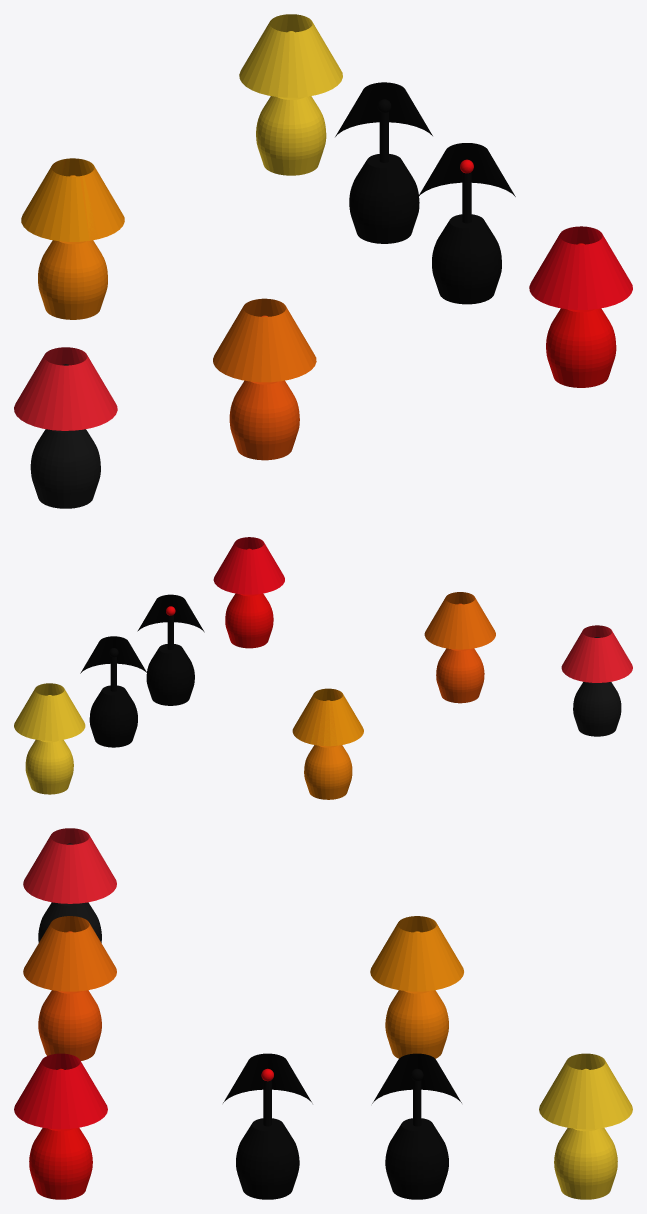
The model's file is lamps.glb.
The picture shows the model from 3 angles, top to bottom: view 1: azimuth 30°, elevation 25°; view 2: azimuth 150°, elevation 25°; view 3: azimuth 270°, elevation 25°; orthographic projection. The views are drawn at different scales.
Parts seen in each view (by area): view 1: Sphere.005, Sphere.013, Sphere.015, Sphere.007, Cylinder.031, Sphere.003, Cylinder.005; view 2: Sphere.015, Sphere.005, Cylinder.031, Sphere.007, Sphere.013, Cylinder.005, Sphere.003; view 3: Sphere.005, Sphere.007, Sphere.013, Cylinder.031, Sphere.003, Cylinder.005, Sphere.015.
Part boxes in pixels (x1,y1,x2,y2): Sphere.005: (239, 14, 342, 175); Sphere.013: (213, 298, 316, 460); Sphere.015: (14, 347, 117, 508); Sphere.007: (529, 226, 632, 387); Cylinder.031: (21, 158, 124, 319); Sphere.003: (335, 82, 432, 243); Cylinder.005: (417, 143, 515, 304); Sphere.015: (561, 625, 632, 736); Sphere.005: (14, 683, 85, 794); Cylinder.031: (292, 688, 363, 799); Sphere.007: (213, 537, 284, 648); Sphere.013: (424, 592, 495, 703); Cylinder.005: (137, 594, 204, 705); Sphere.003: (80, 636, 147, 747); Sphere.005: (539, 1053, 632, 1199); Sphere.007: (14, 1053, 107, 1199); Sphere.013: (23, 916, 116, 1060); Cylinder.031: (370, 916, 463, 1058); Sphere.003: (372, 1053, 461, 1199); Cylinder.005: (223, 1053, 312, 1199); Sphere.015: (23, 828, 116, 942).
Size of the model in its own units: 9.98 by 2.24 by 9.85.
